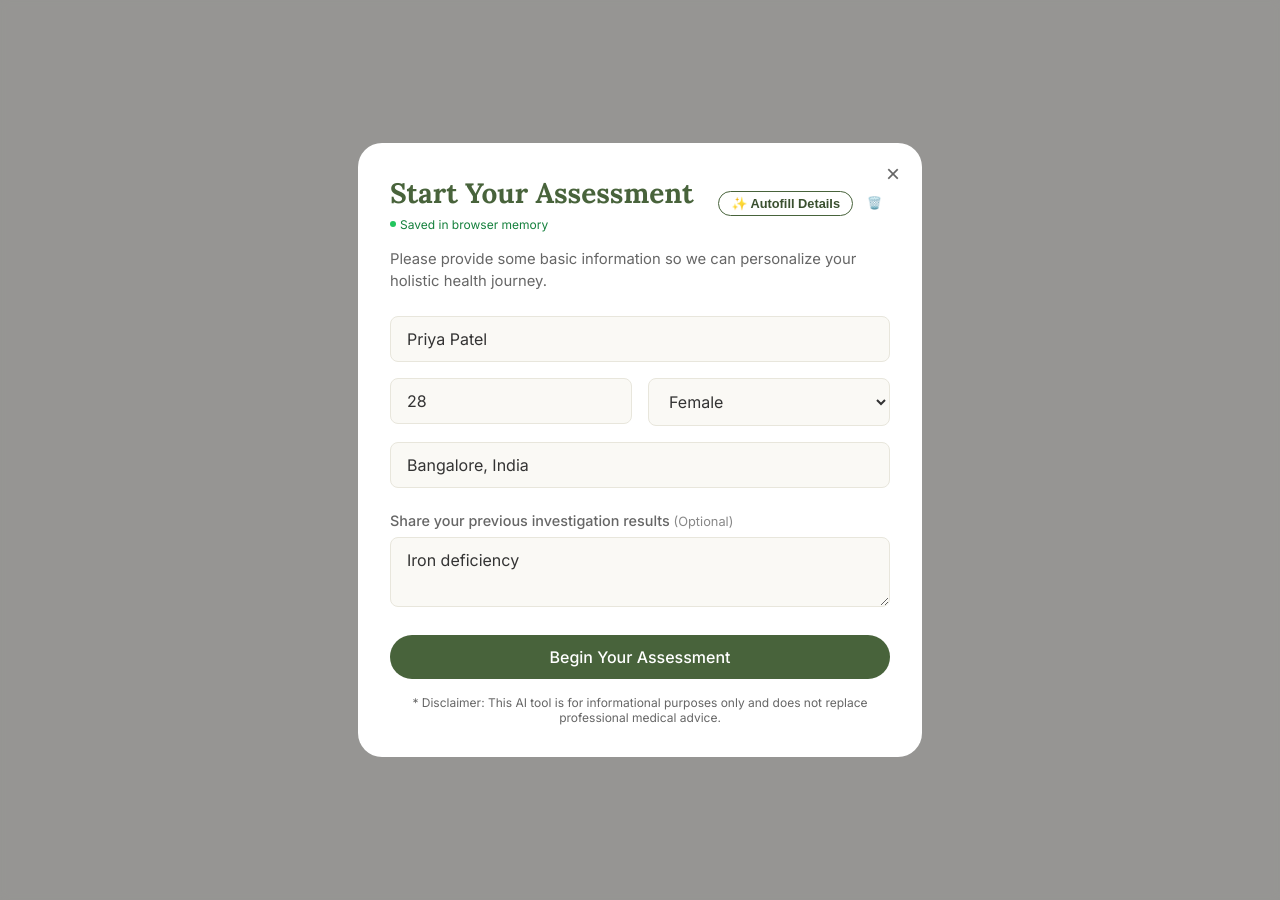
Test case: PatientFormModal Component › autofills saved details when Autofill Details button is clicked with saved profile
The width and height of the screenshot is (1280, 900).
What coordinates should you click on to do the following:
click the button "✨ Autofill Details"
I would click on:
 (786, 203)
Its box is [718, 191, 853, 216].
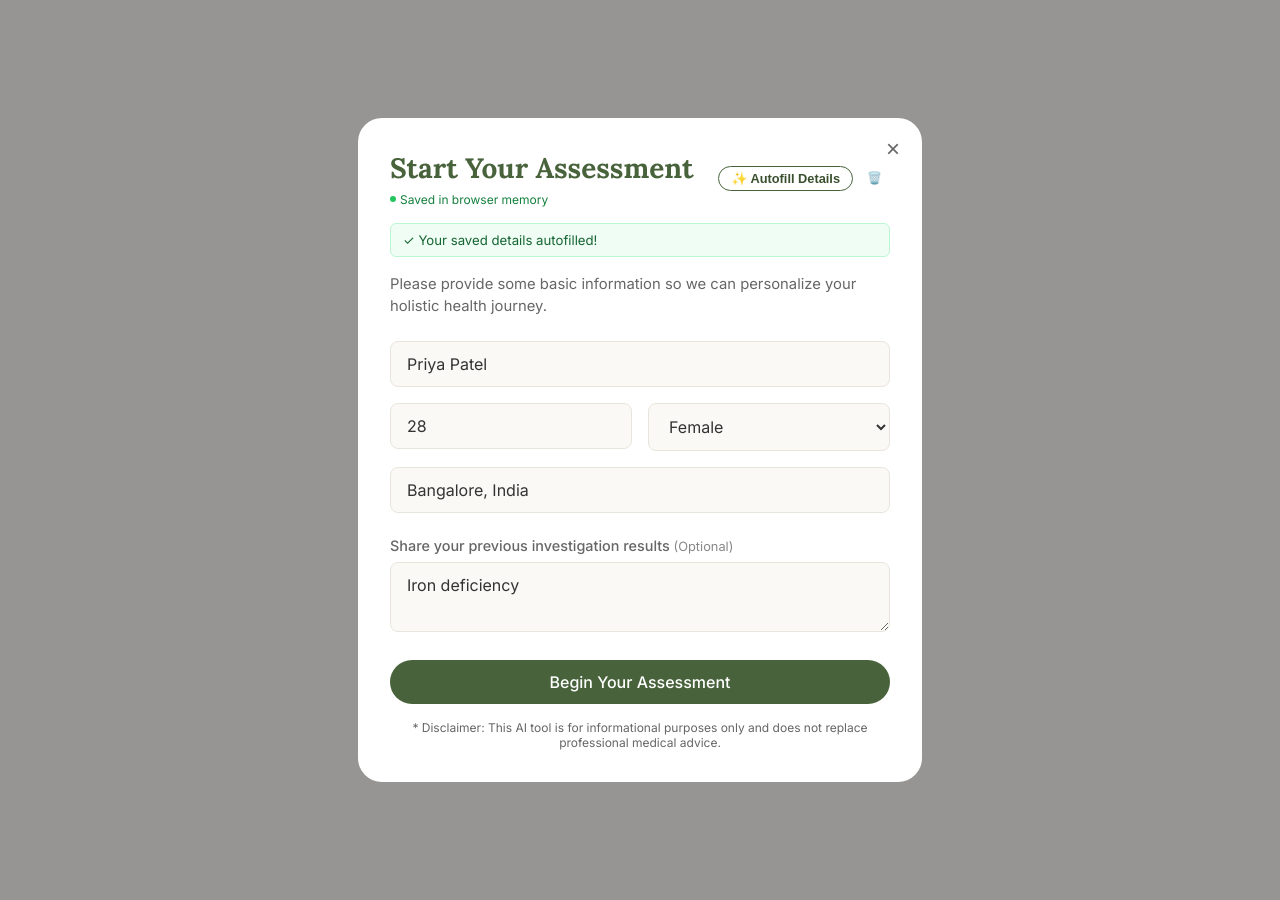
Expected: the 1st field showing "Priya Patel" is shown, [390, 341, 890, 387]
Now the text "✓ Your saved details autofilled!" is shown, box [390, 223, 890, 257]
